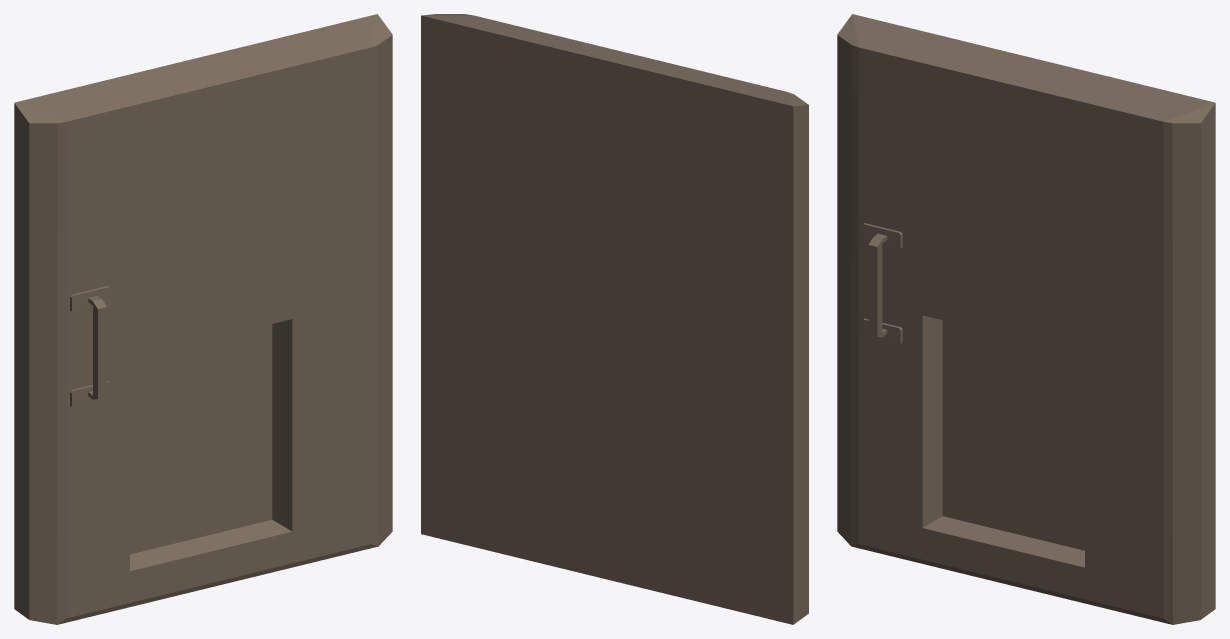
The picture shows the model from 3 angles, left to right: view 1: azimuth 30°, elevation 25°; view 2: azimuth 150°, elevation 25°; view 3: azimuth 330°, elevation 25°; orthographic projection. The views are drawn at different scales.
Parts seen in each view (by area): view 1: SM_H5_D; view 2: SM_H5_D; view 3: SM_H5_D.
Boxes of the visible parts, left/top/right/bottom form: SM_H5_D: left=14, top=14, right=392, bottom=624; SM_H5_D: left=421, top=14, right=808, bottom=624; SM_H5_D: left=837, top=14, right=1215, bottom=624.
Size of the model in its own units: 166 by 26.75 by 223.
1 material, 1 textured.
